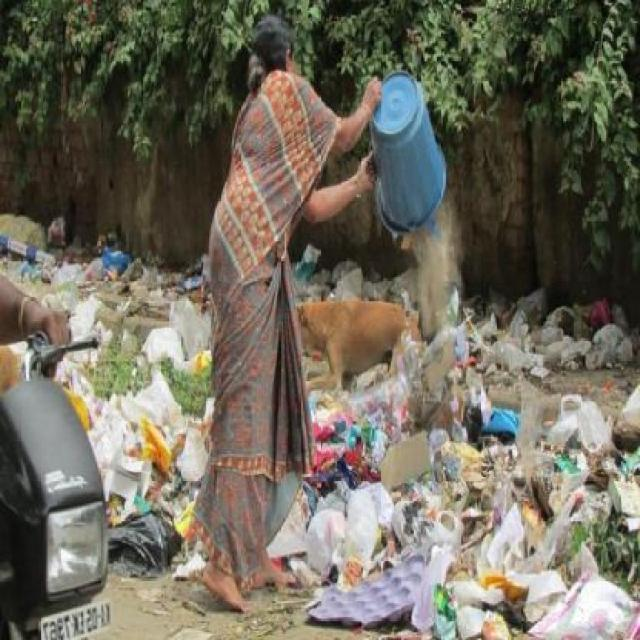Plastic_Bag: (308, 490, 378, 578)
